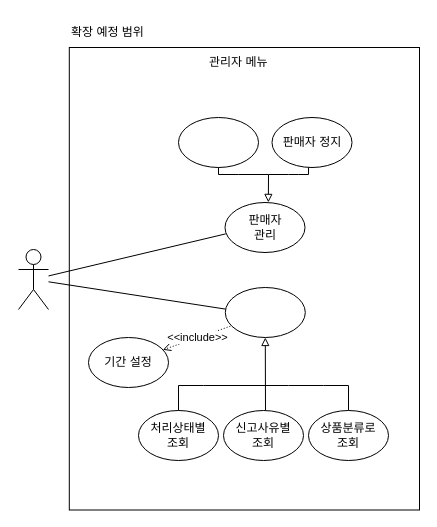
Image size: 437x527. Some labels were removed from this diagram. The centre of each missing label's shape, as x and y in pixels:
"관리자" goes at point 33,279.
"신고 게시글 목록 조회" goes at point 264,312.
"판매자 승인" goes at point 218,142.
